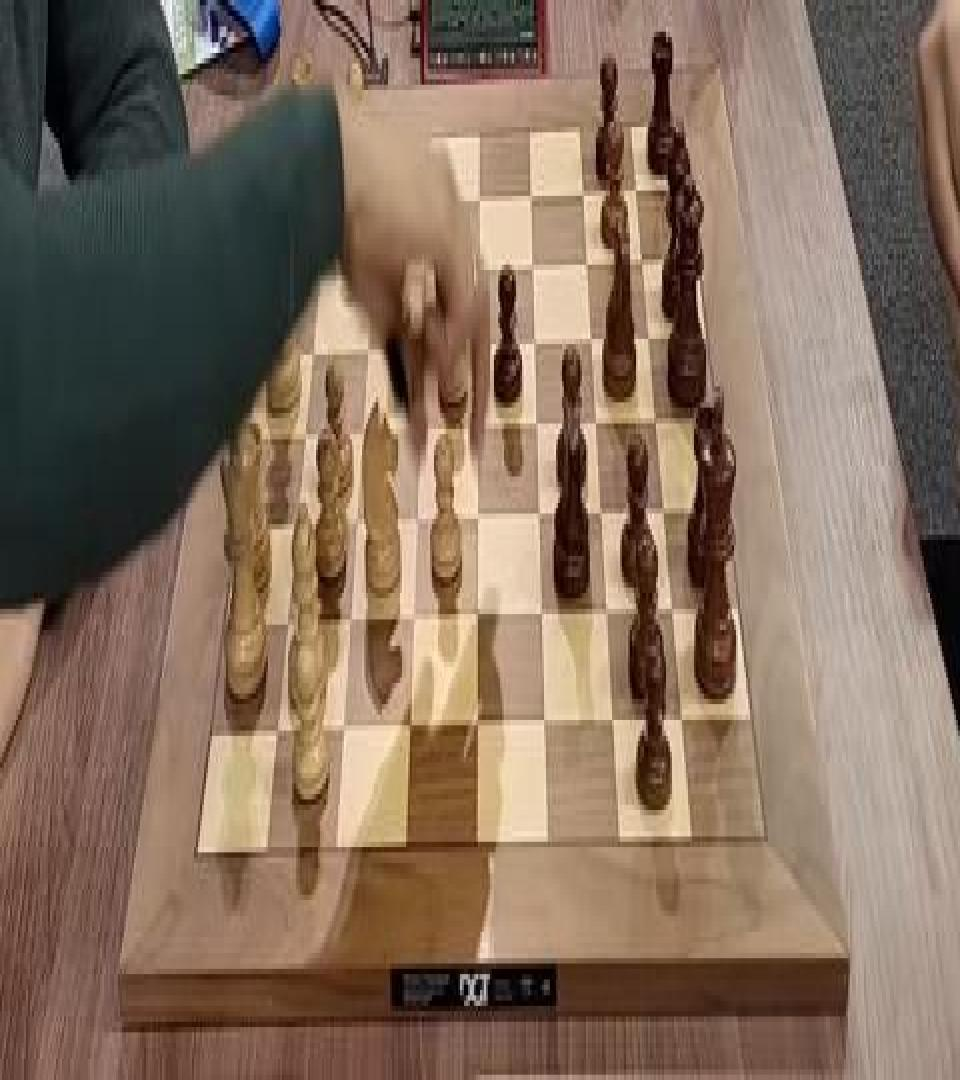xcorner: (643, 317, 655, 350), (587, 317, 599, 350), (416, 407, 428, 440), (538, 595, 550, 628), (473, 595, 485, 628), (579, 172, 591, 204), (424, 177, 436, 209), (373, 180, 385, 212), (322, 182, 334, 214), (637, 241, 649, 273), (583, 244, 595, 276), (529, 244, 541, 276), (476, 246, 488, 278), (422, 248, 434, 280), (368, 248, 380, 280), (315, 252, 327, 284), (531, 320, 543, 352), (475, 323, 487, 355), (419, 326, 431, 358), (363, 326, 375, 358), (308, 328, 320, 360), (651, 400, 663, 432), (592, 402, 604, 434), (533, 405, 545, 437), (475, 405, 487, 437), (358, 410, 370, 442), (300, 410, 312, 442), (658, 490, 670, 522), (597, 492, 609, 524), (535, 495, 547, 527), (474, 498, 486, 530), (413, 498, 425, 530), (352, 500, 364, 532), (291, 503, 303, 535), (667, 590, 679, 622), (602, 593, 614, 625), (409, 598, 421, 630), (345, 601, 357, 633), (281, 601, 293, 633), (676, 702, 688, 734), (608, 702, 620, 734), (540, 704, 552, 736), (473, 706, 485, 738), (405, 710, 417, 742), (338, 710, 350, 742), (271, 712, 283, 744), (631, 170, 643, 201), (528, 175, 540, 206), (476, 175, 488, 206)
